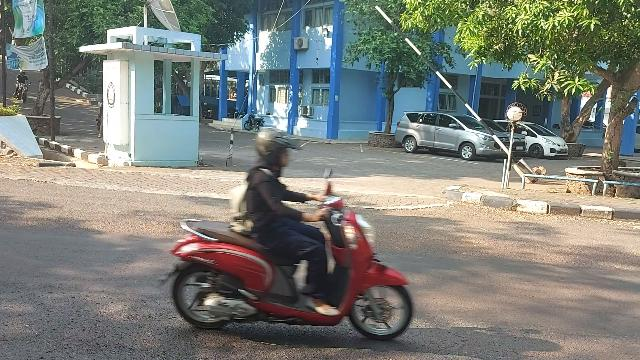helm: (258, 130, 303, 169)
motor: (161, 171, 415, 343)
